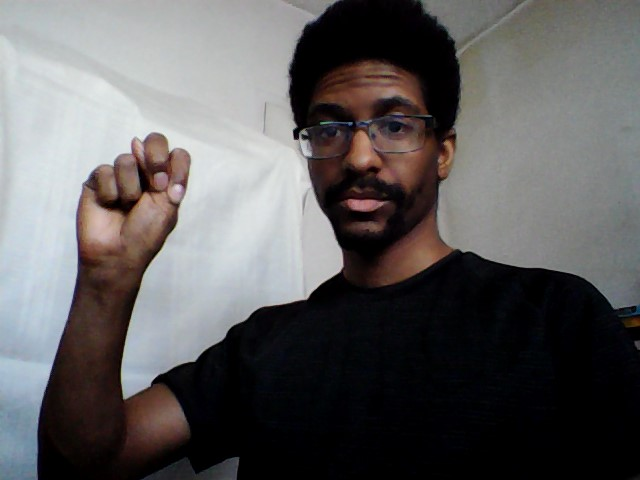n: (70, 129, 197, 277)
